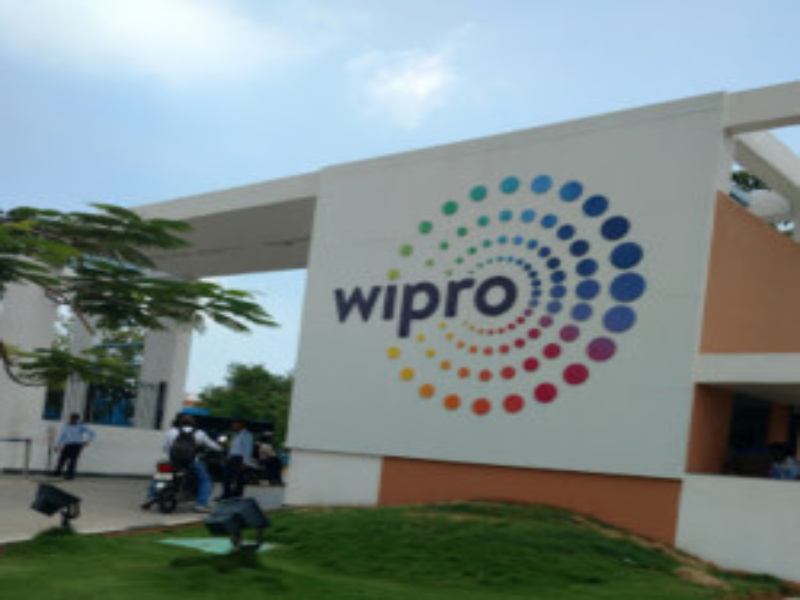wipro: (323, 173, 650, 424)
